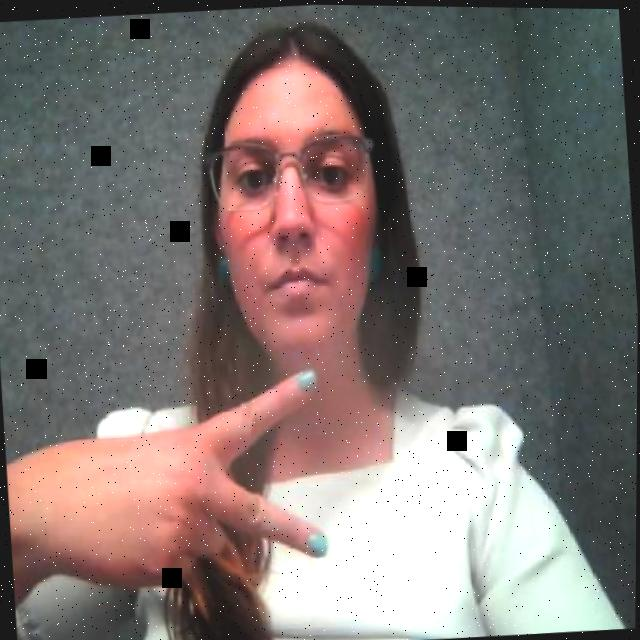Scissors: (0, 349, 353, 615)
